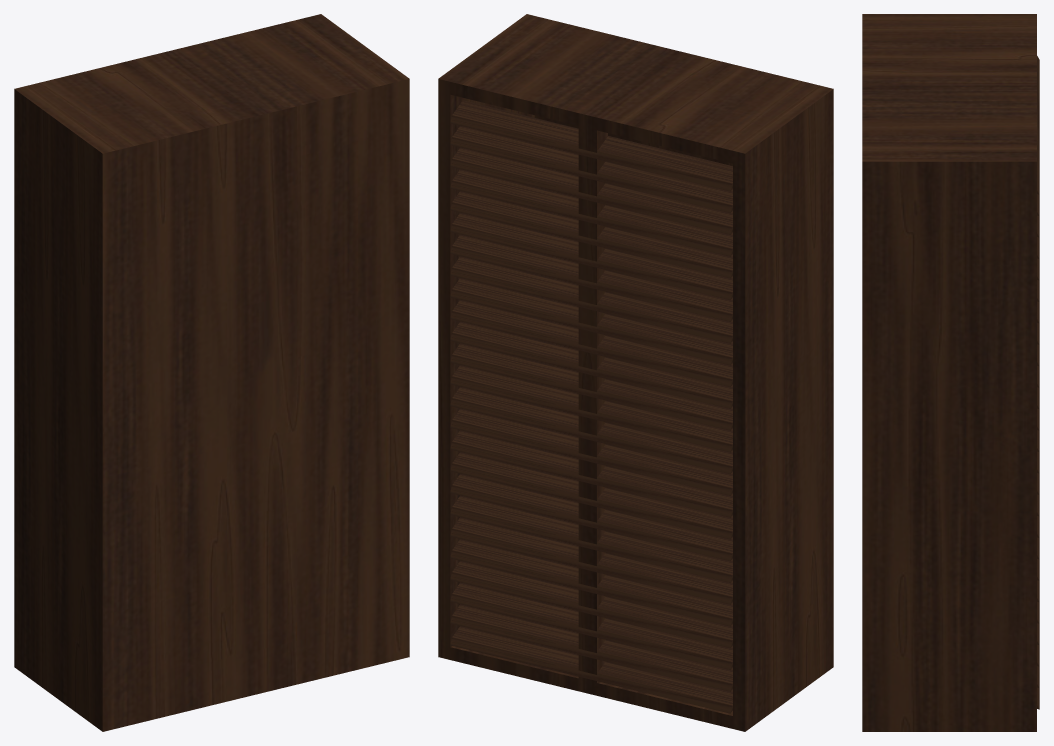
Rendered from Armoire.FBX.
3 views of the same model, side by side, from view 1: azimuth 30°, elevation 25°; view 2: azimuth 150°, elevation 25°; view 3: azimuth 270°, elevation 25° (orthographic).
Visible parts, largest first — view 1: Armoire; view 2: Armoire; view 3: Armoire.
Boxes of the visible parts, bbox=[...] form: Armoire: bbox=[14, 14, 409, 731]; Armoire: bbox=[438, 14, 833, 731]; Armoire: bbox=[862, 14, 1039, 731].
Size of the model in its own units: 1 by 1.8 by 0.5079.
